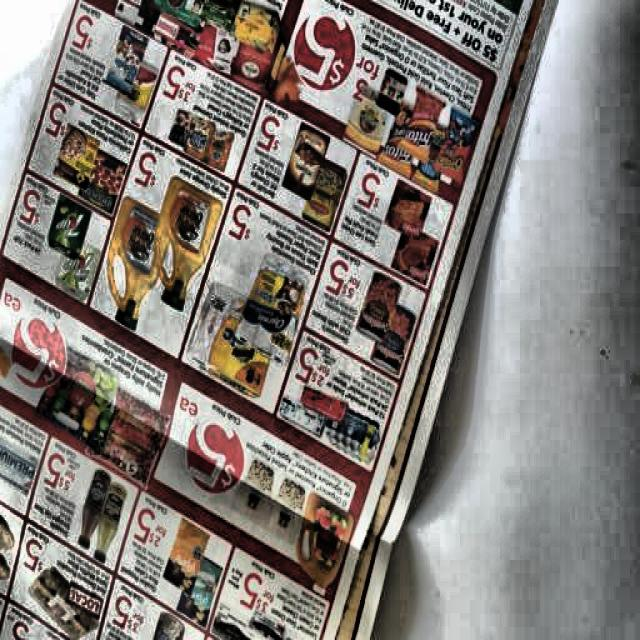paper: (52, 1, 491, 640)
